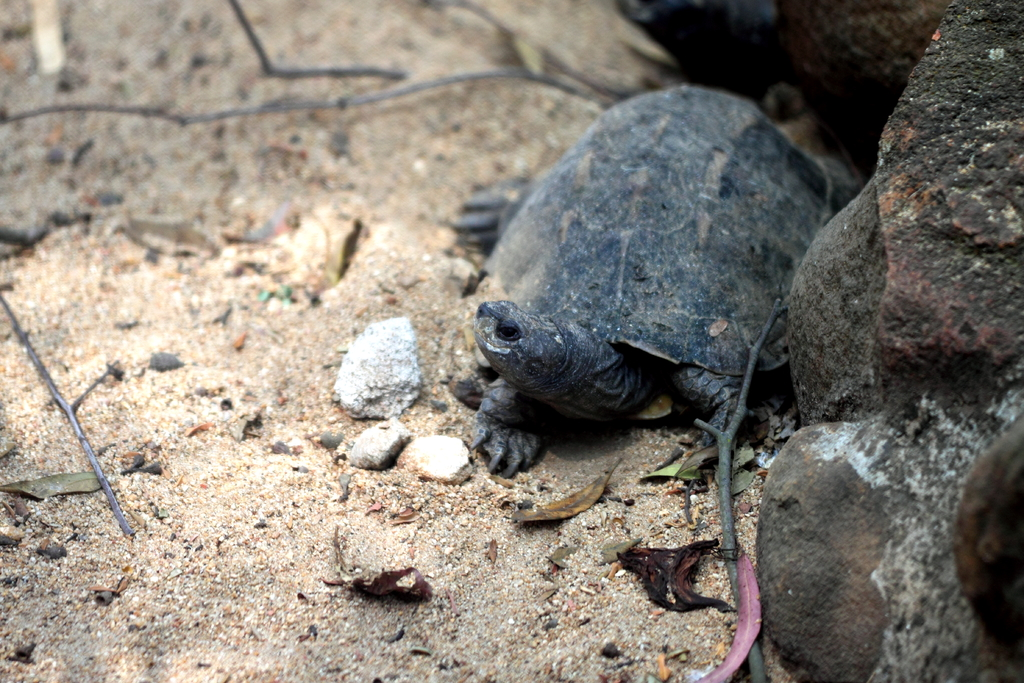Sea turtles: (456, 78, 868, 483)
